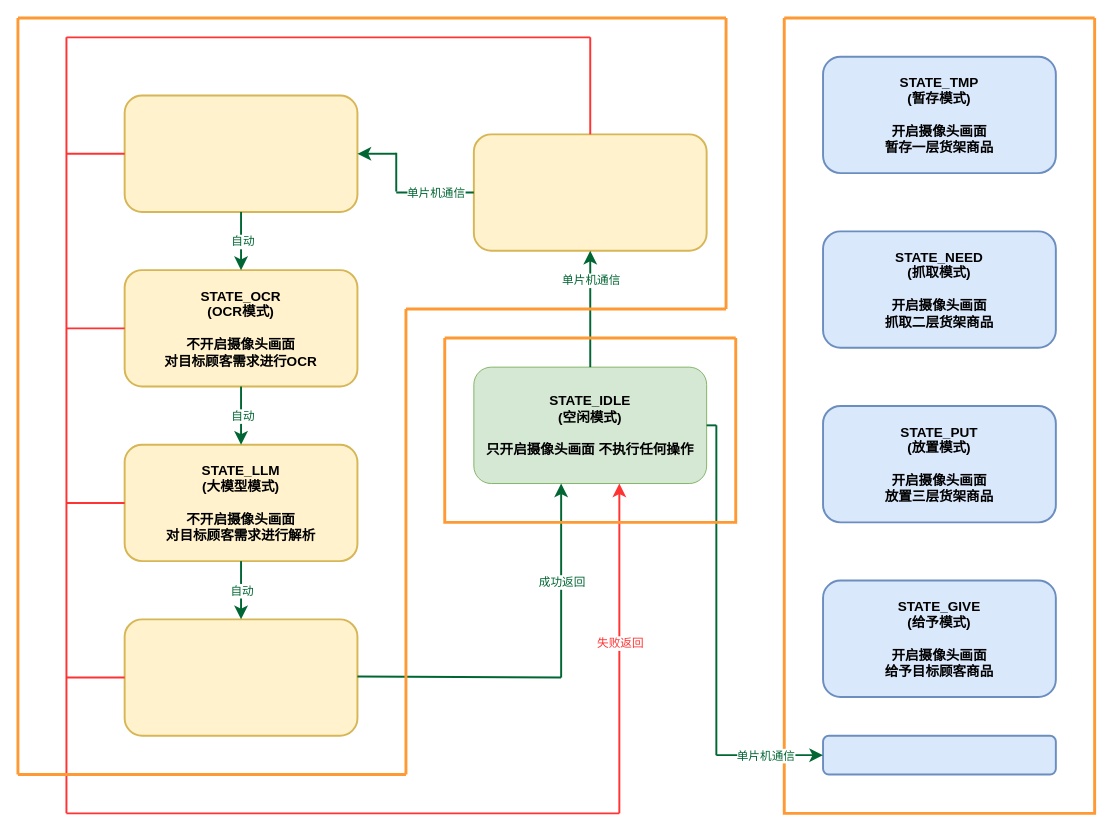
The diagram is 1113 pixels wide and 832 high, and some of its shapes have lost their labels. Each missing label, with the centre of its shape:
"STATE_FACE_DETECT (人脸模式) 开启摄像头画面 只查看是否有人脸 不执行其他操作 正式比赛的时候 可以跳过这个模式" goes at pixel 589 192.
"STATE_SAVE (保存模式) 不开启摄像头画面 保存目标顾客信息" goes at pixel 240 153.
"不处于IDLE状态也可以自由切换" goes at pixel 939 754.
"所有信息保存 用于之后任务" goes at pixel 240 677.
